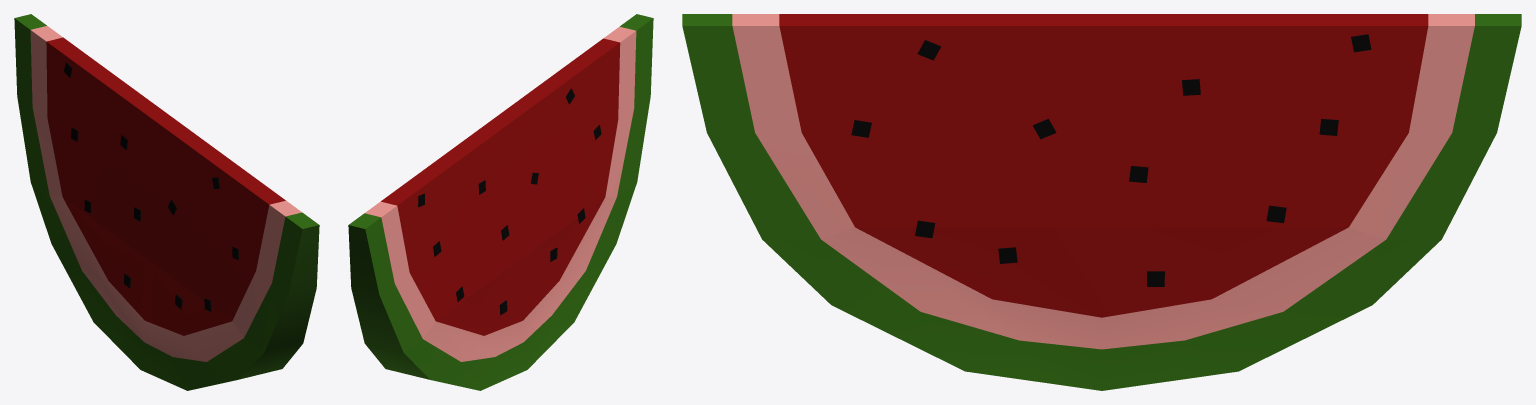
The model's file is Meloen_Stuk1.FBX.
3 renders of one model, left to right at view 1: azimuth 30°, elevation 25°; view 2: azimuth 150°, elevation 25°; view 3: azimuth 270°, elevation 25°, orthographic. The views are drawn at different scales.
Parts seen in each view (by area): view 1: Meloenstuk2; view 2: Meloenstuk2; view 3: Meloenstuk2.
Part boxes in pixels (x1,y1,x2,y2): Meloenstuk2: (14, 14, 319, 390); Meloenstuk2: (348, 14, 653, 390); Meloenstuk2: (682, 14, 1521, 390).
Bounding box in the file's own units: 346 × 3254 × 1507.
